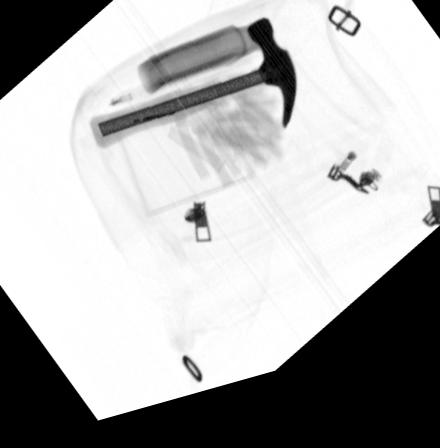Hammer: (87, 31, 297, 154)
